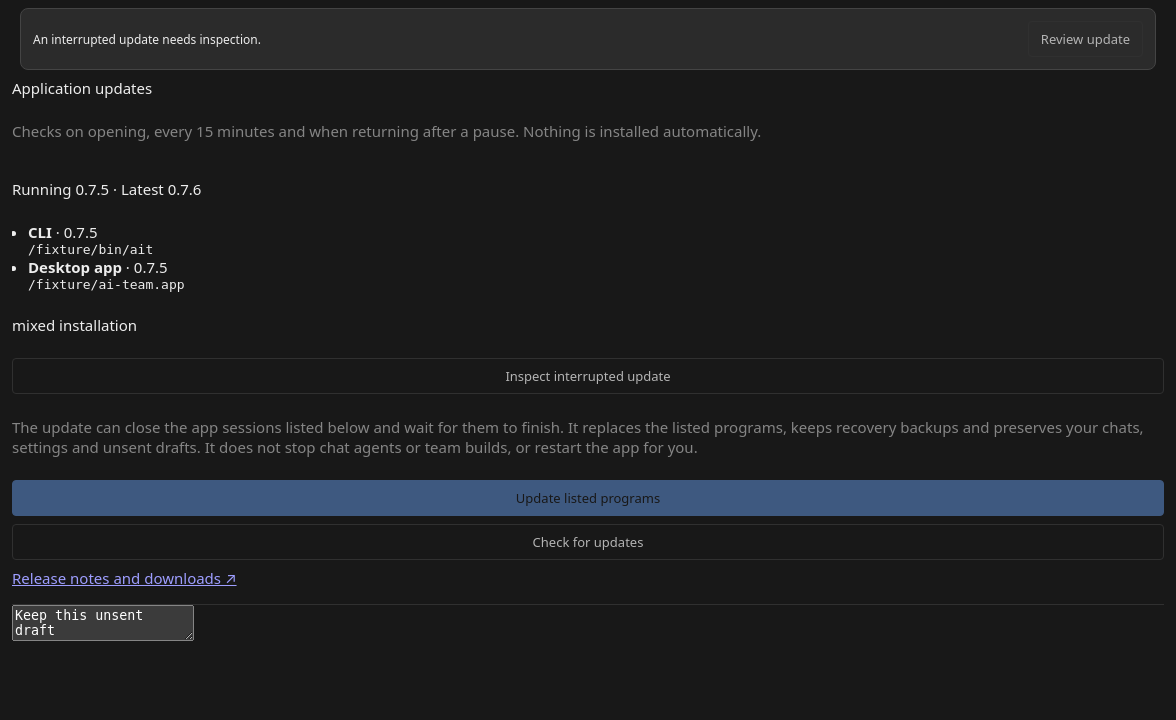
offers inspection instead of replaying an interrupted update
Click the button "Inspect interrupted update": (588, 376) [12,358,1164,394]
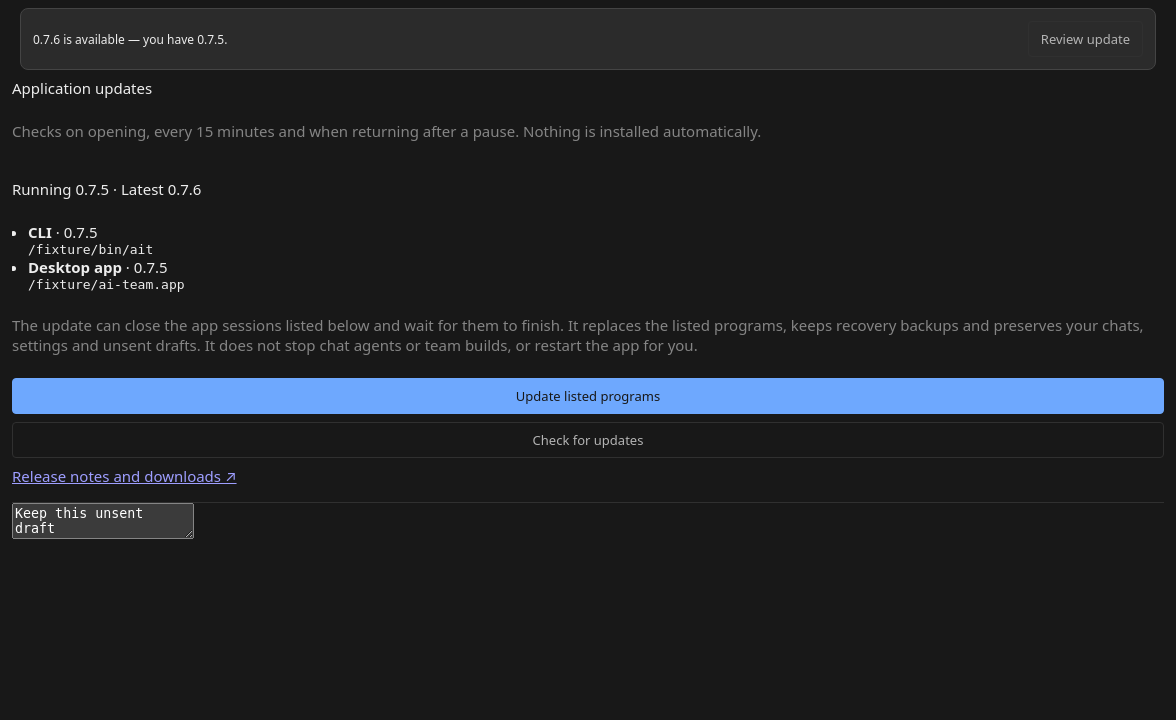
Expected: the text "interrupted update needs inspection" is gone
